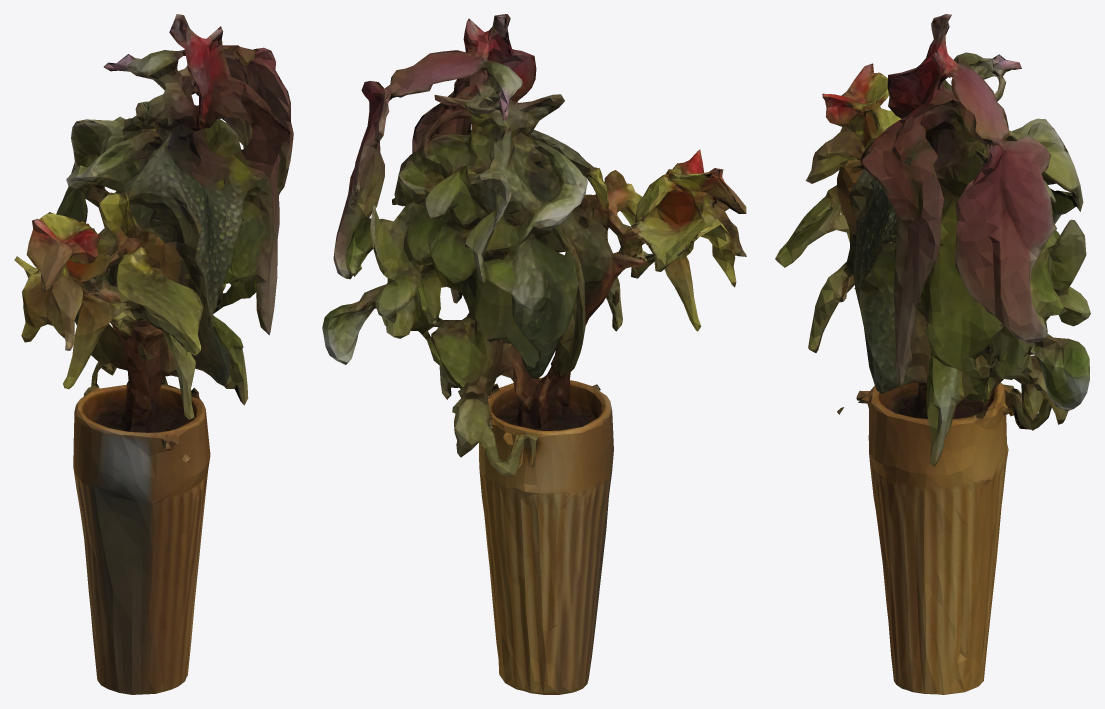
Rendered from ast_edf646ab154c.glb.
The picture shows the model from 3 angles, left to right: view 1: azimuth 30°, elevation 25°; view 2: azimuth 150°, elevation 25°; view 3: azimuth 270°, elevation 25°; orthographic projection. The views are drawn at different scales.
Visible parts, largest first — view 1: geometry_0; view 2: geometry_0; view 3: geometry_0.
Part boxes in pixels (x1=…): geometry_0: x1=14, y1=14, x2=293, y2=694; geometry_0: x1=322, y1=14, x2=746, y2=694; geometry_0: x1=775, y1=14, x2=1090, y2=694.
Bounding box in the file's own units: 0.5185 × 0.9946 × 0.4159.
1 material, 1 textured.
